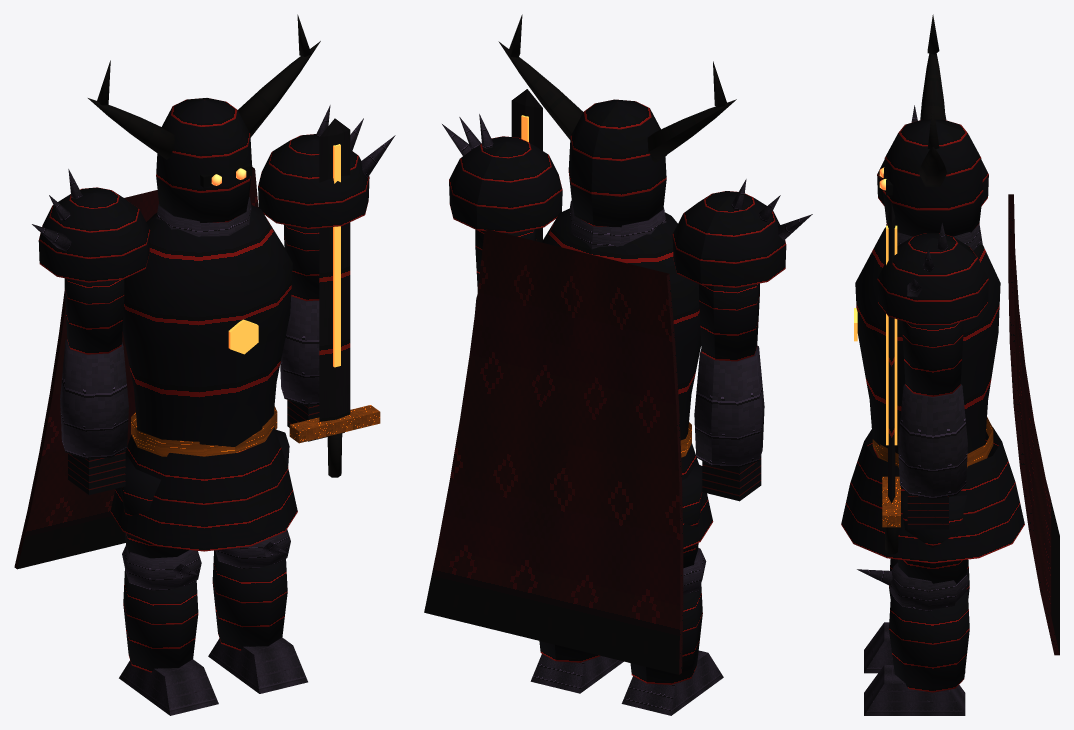
The model's file is nachtfuerst.glb.
3 renders of one model, left to right at view 1: azimuth 30°, elevation 25°; view 2: azimuth 150°, elevation 25°; view 3: azimuth 270°, elevation 25°, orthographic. The views are drawn at different scales.
Visible parts, largest first — view 1: torsoN, tassetN, capeN, helmN, pauldN-1, pauldN1, foreN-1, greatN, shinN-1, shinN1, upperN-1, foreN1 (+16 smaller); view 2: capeN, helmN, pauldN1, pauldN-1, foreN-1, torsoN, upperN-1, footN-1, shinN-1, footN1, hornN1, gorgetN (+7 smaller); view 3: tassetN, torsoN, helmN, pauldN1, capeN, foreN1, shinN1, upperN1, footN1, thighN1, kneeN1, greatN (+10 smaller).
Part boxes in pixels (x1=…): torsoN: x1=122, y1=204, x2=292, y2=452; tassetN: x1=110, y1=427, x2=297, y2=551; capeN: x1=14, y1=167, x2=258, y2=569; helmN: x1=156, y1=98, x2=251, y2=222; pauldN-1: x1=38, y1=187, x2=150, y2=282; pauldN1: x1=258, y1=134, x2=369, y2=228; foreN-1: x1=60, y1=339, x2=128, y2=458; greatN: x1=319, y1=118, x2=350, y2=421; shinN-1: x1=123, y1=569, x2=198, y2=672; shinN1: x1=212, y1=550, x2=287, y2=650; upperN-1: x1=64, y1=278, x2=124, y2=354; foreN1: x1=280, y1=296, x2=319, y2=405; capeN: x1=424, y1=229, x2=683, y2=674; helmN: x1=568, y1=99, x2=666, y2=227; pauldN1: x1=449, y1=136, x2=562, y2=233; pauldN-1: x1=672, y1=191, x2=786, y2=287; foreN-1: x1=694, y1=345, x2=764, y2=467; torsoN: x1=541, y1=208, x2=701, y2=440; upperN-1: x1=699, y1=283, x2=759, y2=361; footN-1: x1=621, y1=650, x2=723, y2=715; shinN-1: x1=630, y1=584, x2=702, y2=684; footN1: x1=530, y1=654, x2=623, y2=693; hornN1: x1=498, y1=41, x2=583, y2=139; gorgetN: x1=569, y1=200, x2=666, y2=249; tassetN: x1=841, y1=427, x2=1024, y2=563; torsoN: x1=855, y1=227, x2=1000, y2=457; helmN: x1=883, y1=119, x2=983, y2=236; pauldN1: x1=877, y1=233, x2=988, y2=324; capeN: x1=1008, y1=194, x2=1059, y2=655; foreN1: x1=898, y1=384, x2=967, y2=499; shinN1: x1=889, y1=590, x2=969, y2=692; upperN1: x1=902, y1=321, x2=963, y2=396; footN1: x1=864, y1=665, x2=965, y2=715; thighN1: x1=898, y1=495, x2=968, y2=583; kneeN1: x1=889, y1=562, x2=968, y2=611; greatN: x1=888, y1=202, x2=895, y2=503.
Bounding box in the file's own units: 4.48 × 7.49 × 2.38.
Materials: 9 (6 with a texture image).
